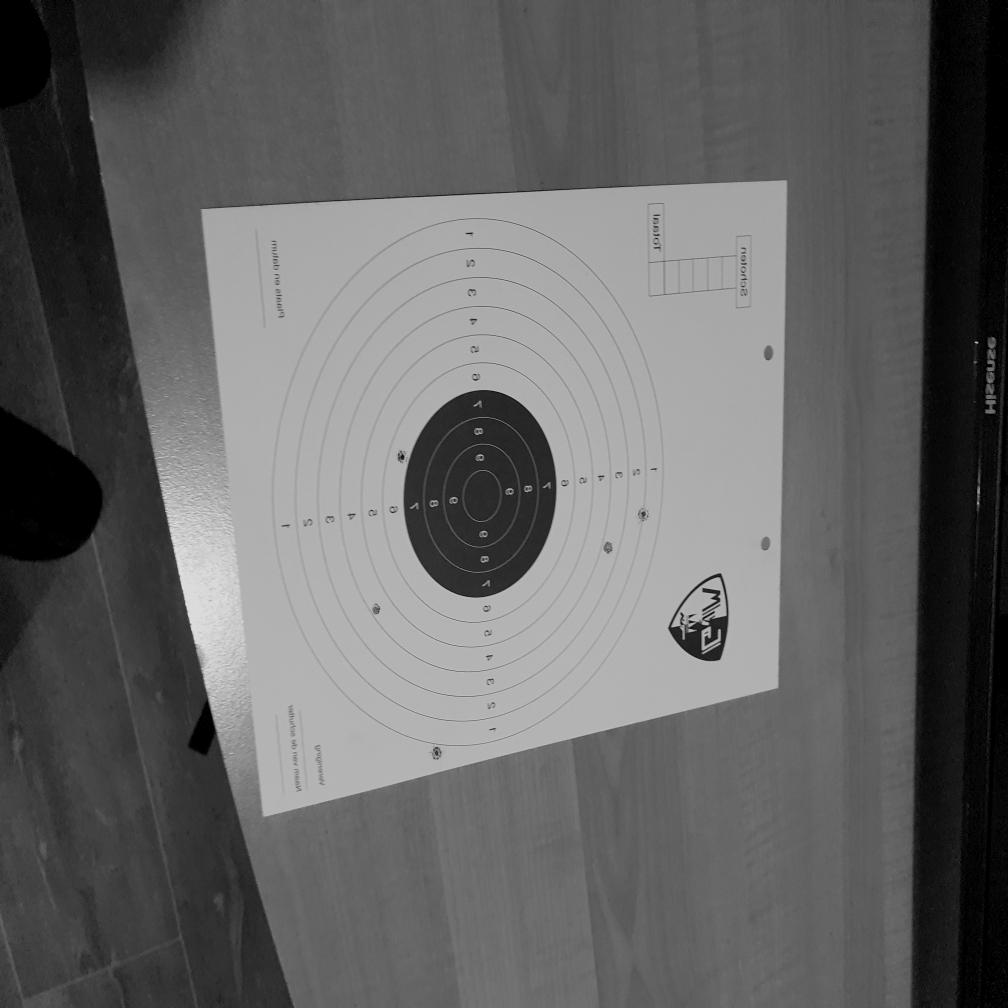0: (429, 744, 443, 762)
2: (635, 506, 650, 525)
3: (602, 539, 614, 556)
4: (371, 602, 381, 616)
6: (396, 446, 410, 464)
Target: (272, 218, 664, 749)
black_contour: (403, 390, 555, 599)
